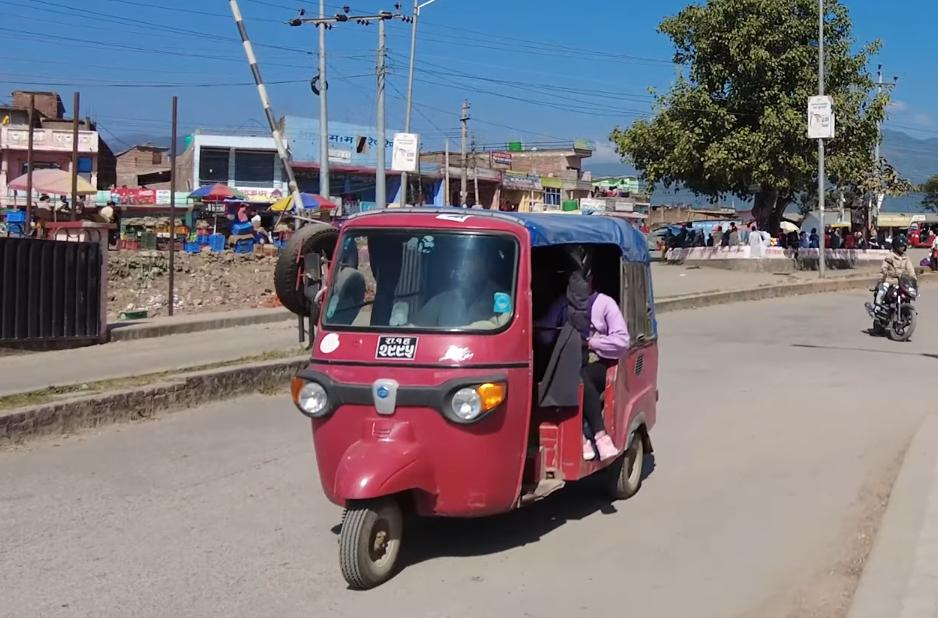auto_rickshaw: (293, 199, 678, 590)
bike: (858, 264, 920, 344)
